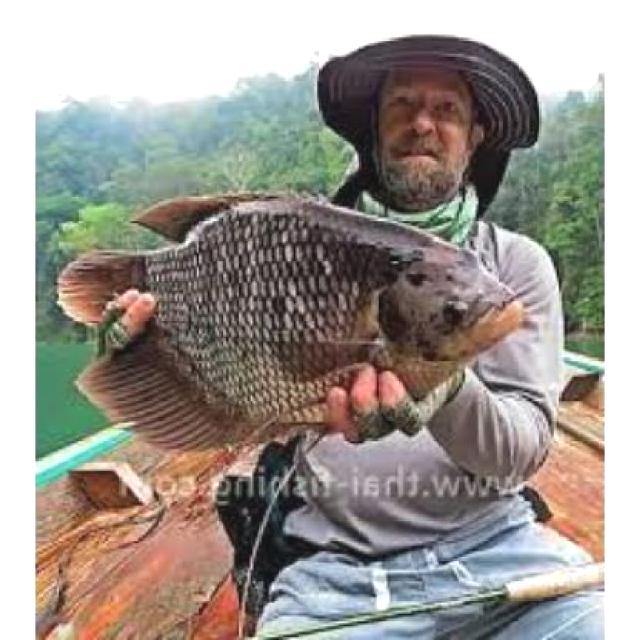gurame: (67, 195, 527, 463)
